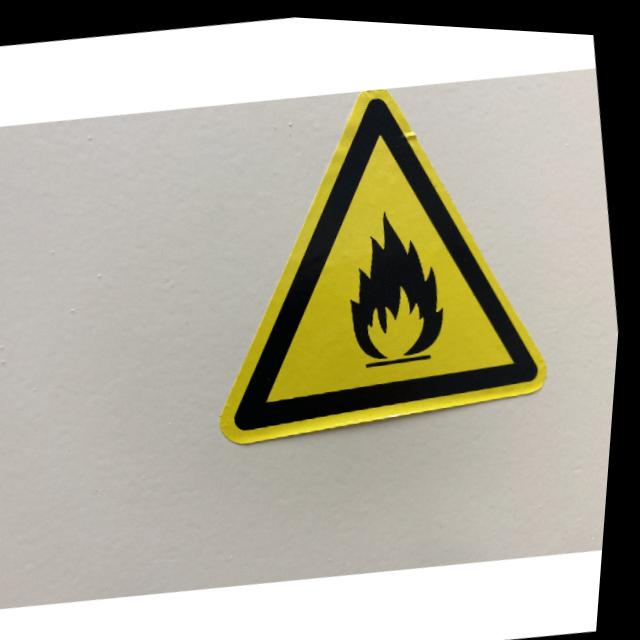fire hazard: (337, 197, 463, 369)
